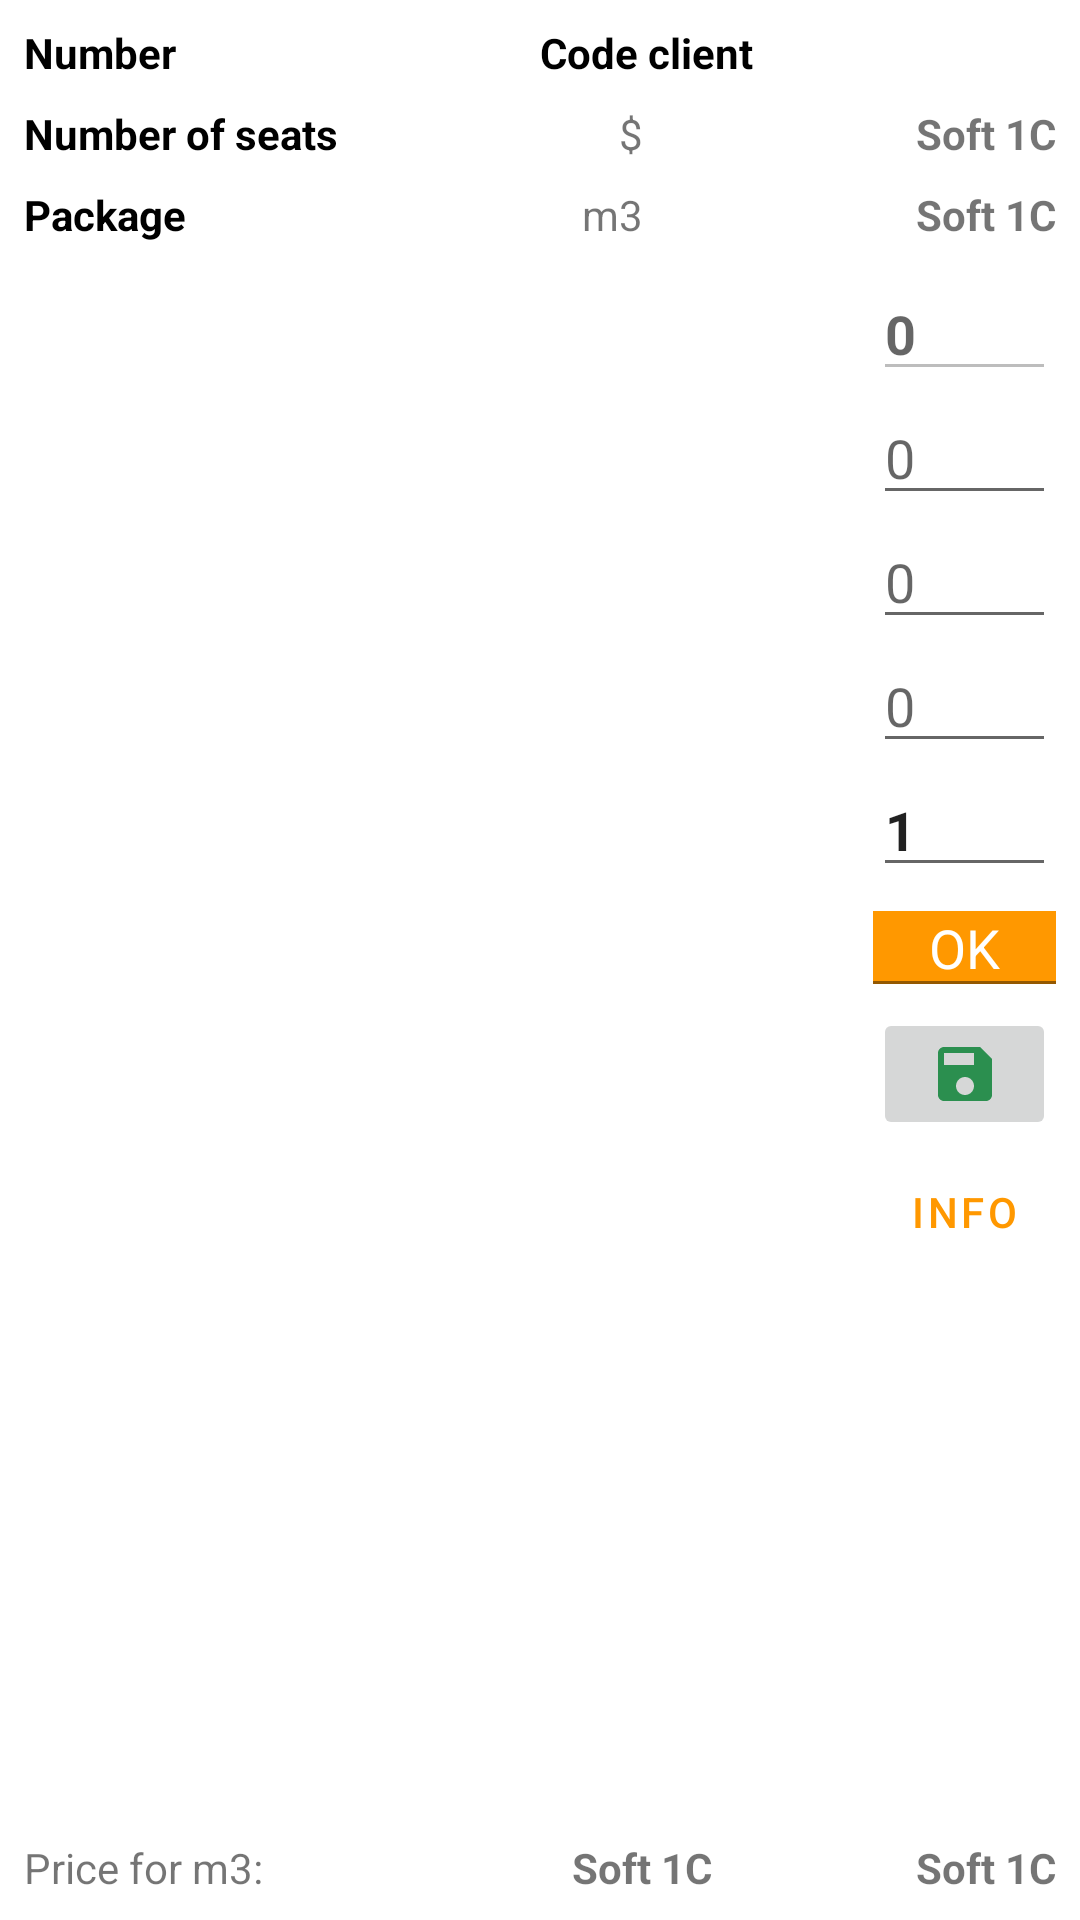

Where icons sit on this 1080x1920 app screen, as (x1, y1, x2, y2):
save: (885, 1026, 1044, 1122)
